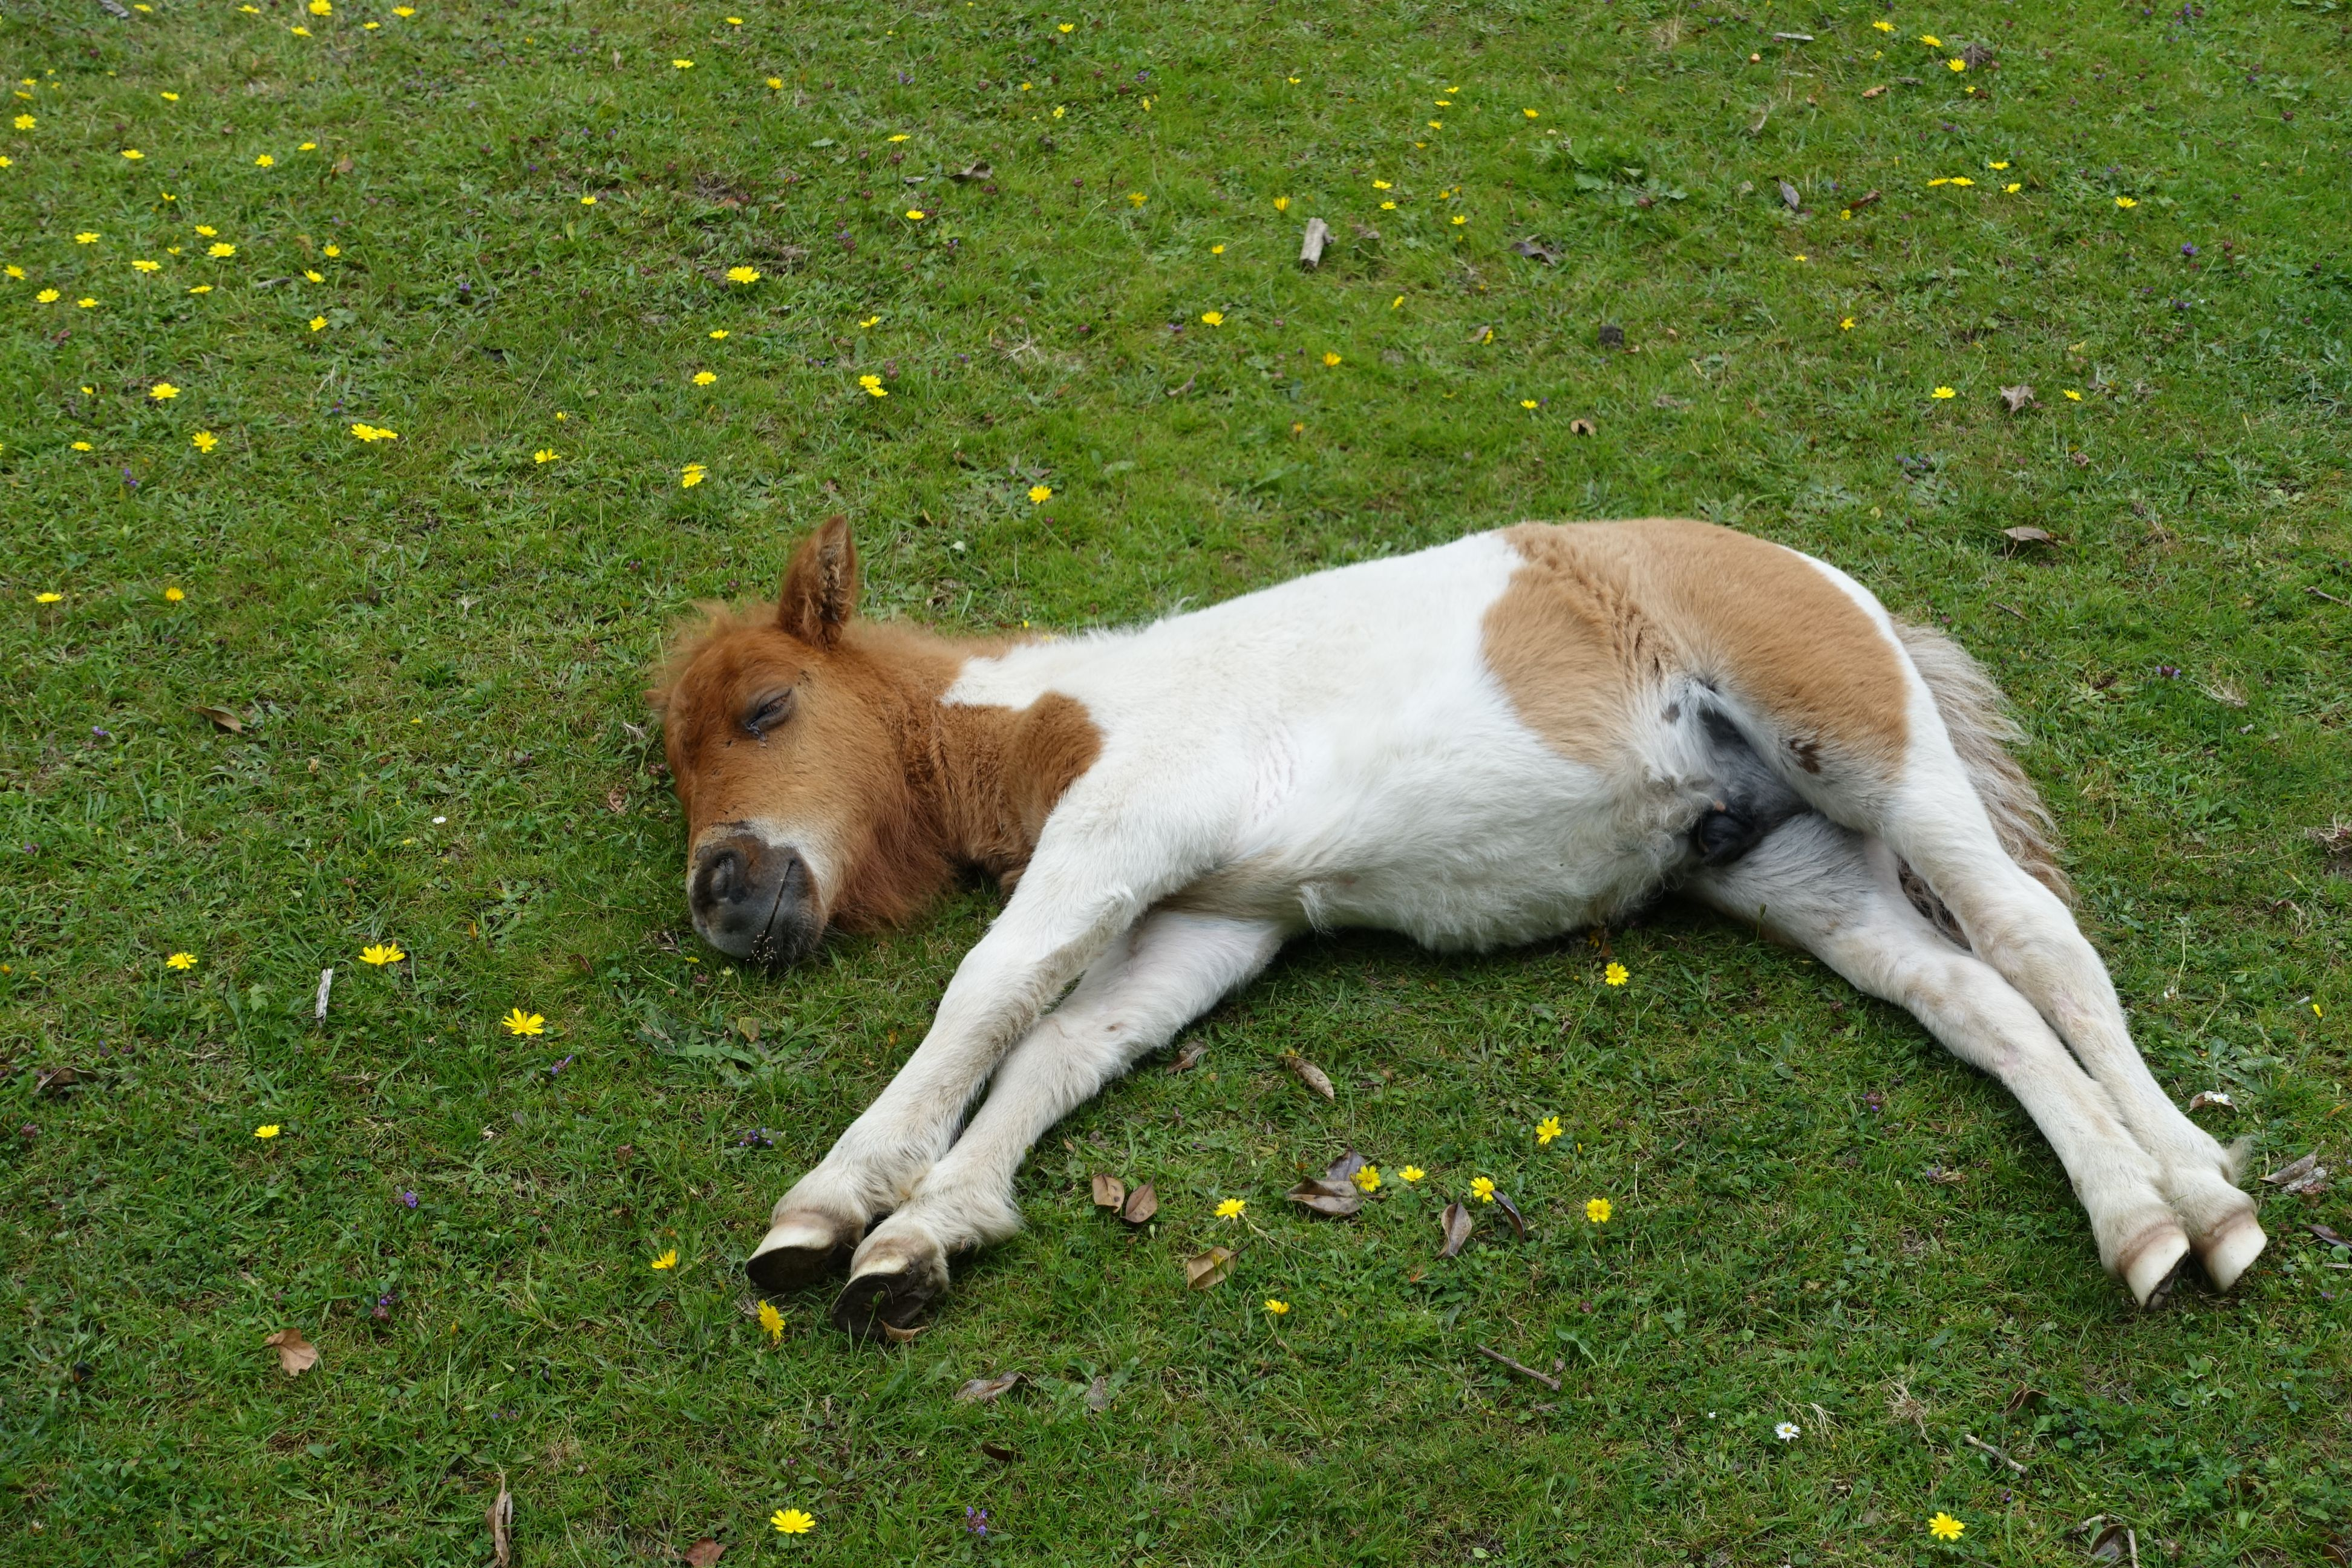Horse: (588, 469, 2305, 1356)
